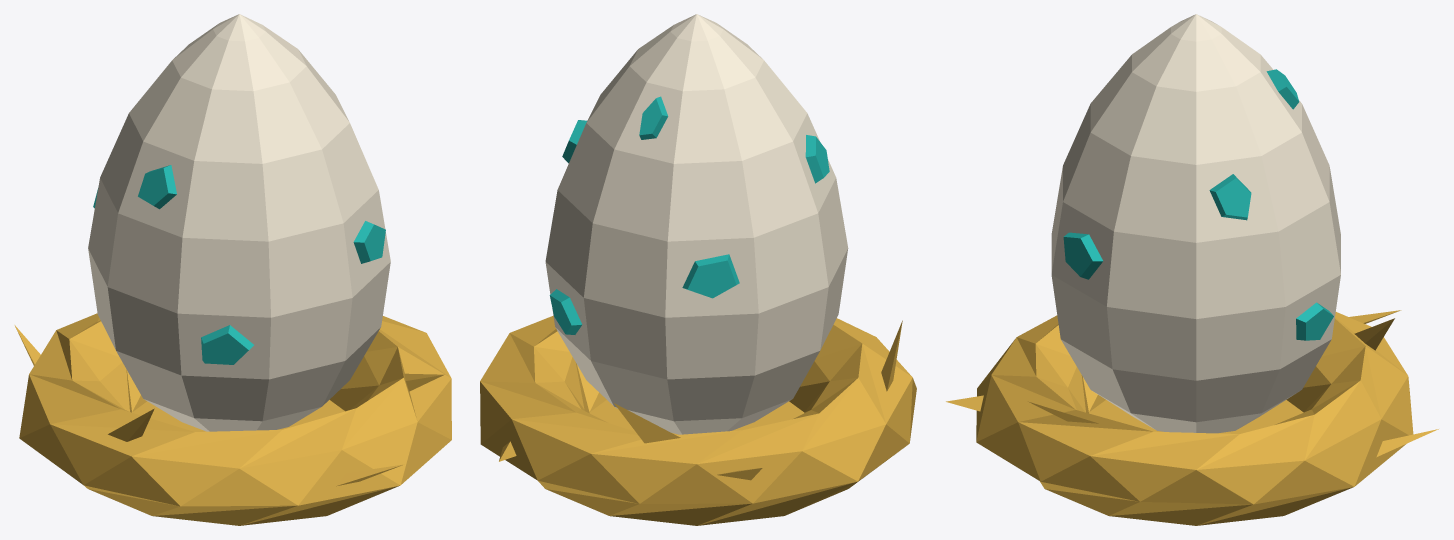
File: pet-egg.glb
3 views of the same model, side by side, from view 1: azimuth 30°, elevation 25°; view 2: azimuth 150°, elevation 25°; view 3: azimuth 270°, elevation 25° (orthographic).
Visible parts, largest first — view 1: Shell, Nest, Spots; view 2: Shell, Nest, Spots; view 3: Shell, Nest, Spots.
Part boxes in pixels (x1,y1,x2,y2): Shell: (88,14,390,431); Nest: (14,313,451,525); Spots: (93,165,385,364); Shell: (545,14,848,434); Nest: (480,316,916,525); Spots: (549,96,829,334); Shell: (1051,14,1340,433); Nest: (946,310,1438,525); Spots: (1063,69,1333,340).
Bounding box in the file's own units: 3.61 × 4 × 4.1.
